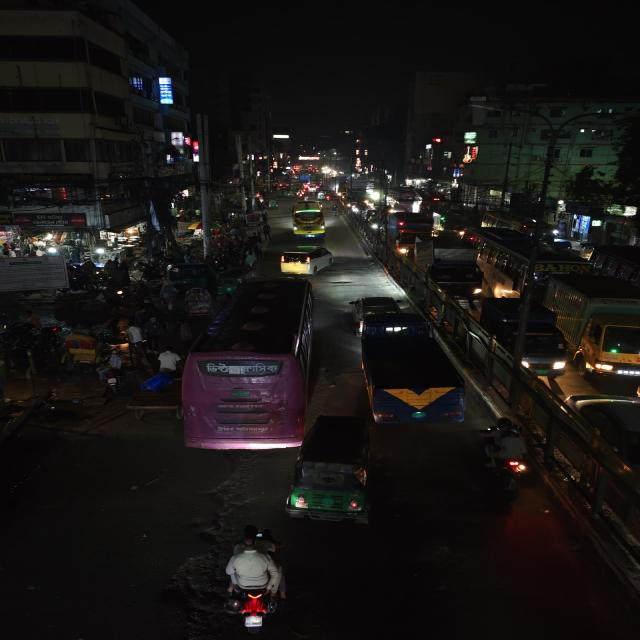bus: (181, 276, 320, 456), (356, 312, 469, 426), (548, 274, 640, 377), (477, 232, 590, 298), (594, 243, 640, 293), (289, 204, 328, 240), (386, 188, 421, 214)
car: (564, 391, 640, 498), (345, 294, 402, 330), (278, 244, 334, 276)
cng: (286, 412, 376, 526), (164, 262, 210, 290), (216, 266, 252, 296)
motorcycle: (221, 522, 288, 638), (479, 416, 534, 484)
pedestrian: (96, 365, 125, 403), (155, 346, 179, 378), (142, 316, 165, 347), (158, 281, 180, 312)
rickshaw: (58, 332, 104, 374), (181, 285, 214, 317)
truck: (356, 312, 470, 424), (476, 296, 567, 376), (421, 234, 481, 302), (389, 212, 434, 258)
